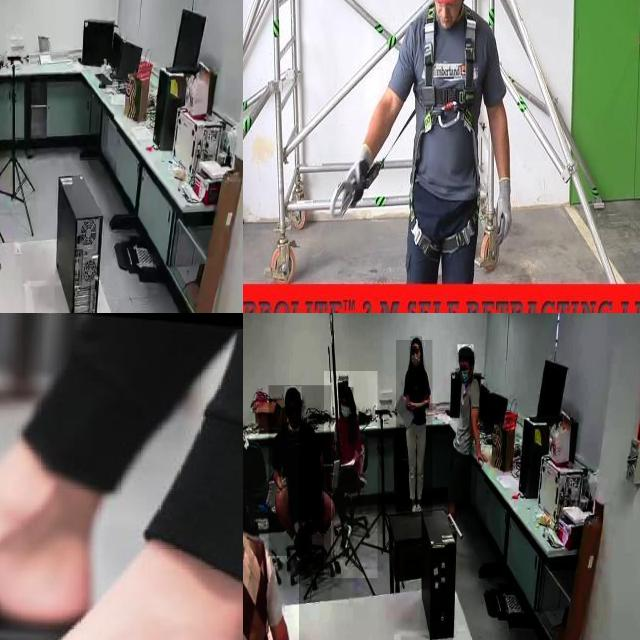Harness: (418, 8, 477, 136)
face_mask: (409, 346, 423, 376), (337, 400, 351, 422), (456, 368, 472, 384)
face_nomask: (286, 404, 302, 427)
hand_noglove: (474, 448, 489, 464), (406, 399, 417, 411), (278, 477, 288, 489), (422, 389, 430, 401)
head_nohelmet: (284, 386, 302, 401), (458, 344, 474, 357), (338, 387, 354, 399), (410, 336, 422, 346)
person: (324, 371, 378, 579), (269, 385, 331, 556), (447, 347, 491, 520), (396, 340, 433, 518)
